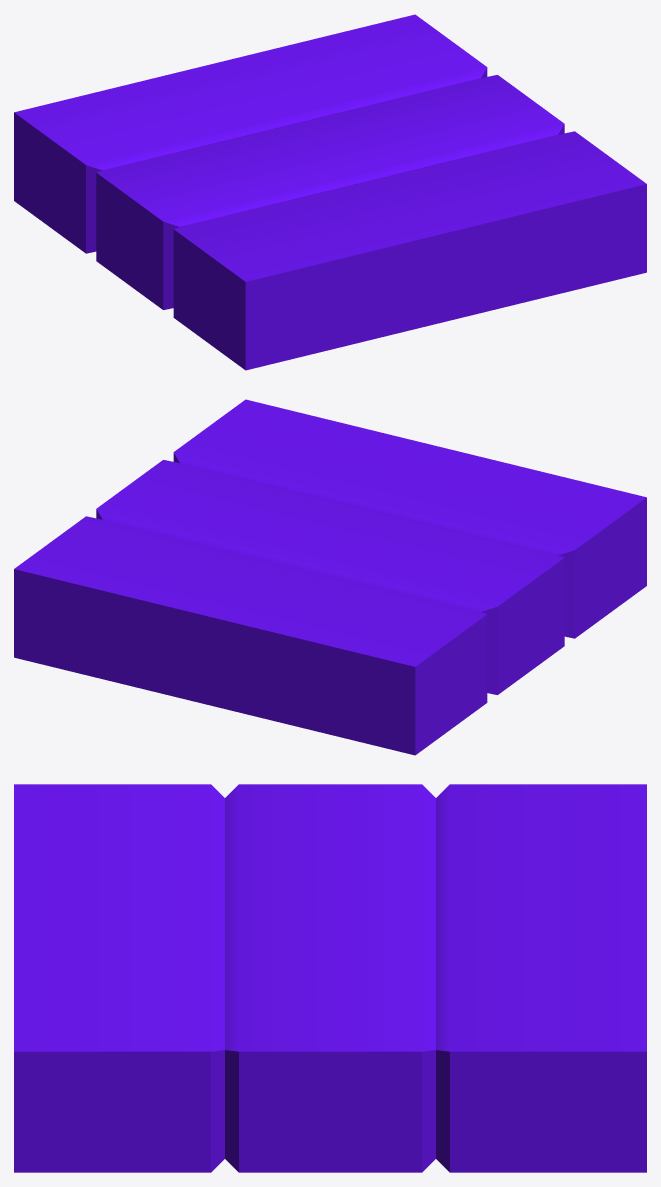
The model's file is Counter_Top_02_S_C02.fbx.
3 renders of one model, top to bottom at view 1: azimuth 30°, elevation 25°; view 2: azimuth 150°, elevation 25°; view 3: azimuth 270°, elevation 25°, orthographic. The views are drawn at different scales.
Visible parts, largest first — view 1: Counter_Top_02_S_C02; view 2: Counter_Top_02_S_C02; view 3: Counter_Top_02_S_C02.
Part boxes in pixels (<box>): Counter_Top_02_S_C02: <box>14,14,646,370</box>; Counter_Top_02_S_C02: <box>14,399,646,755</box>; Counter_Top_02_S_C02: <box>14,784,646,1172</box>.
Bounding box in the file's own units: 100 × 21.09 × 100.
